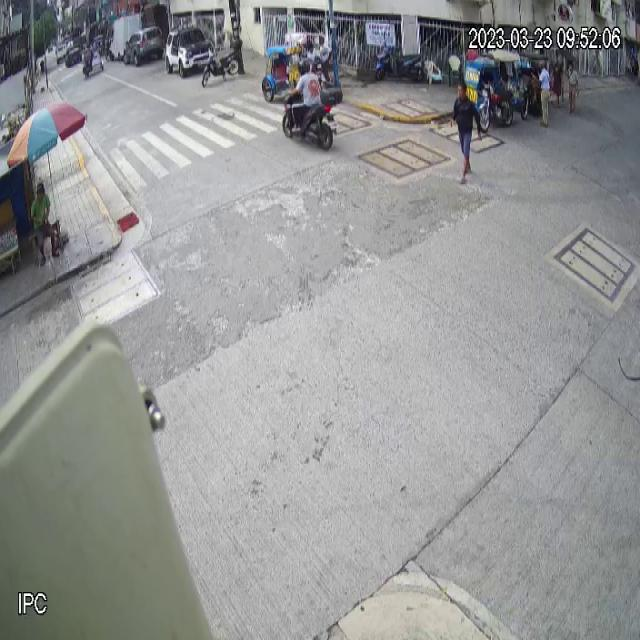Motorcycle: (282, 79, 342, 151)
Tricycle: (463, 48, 520, 132)
